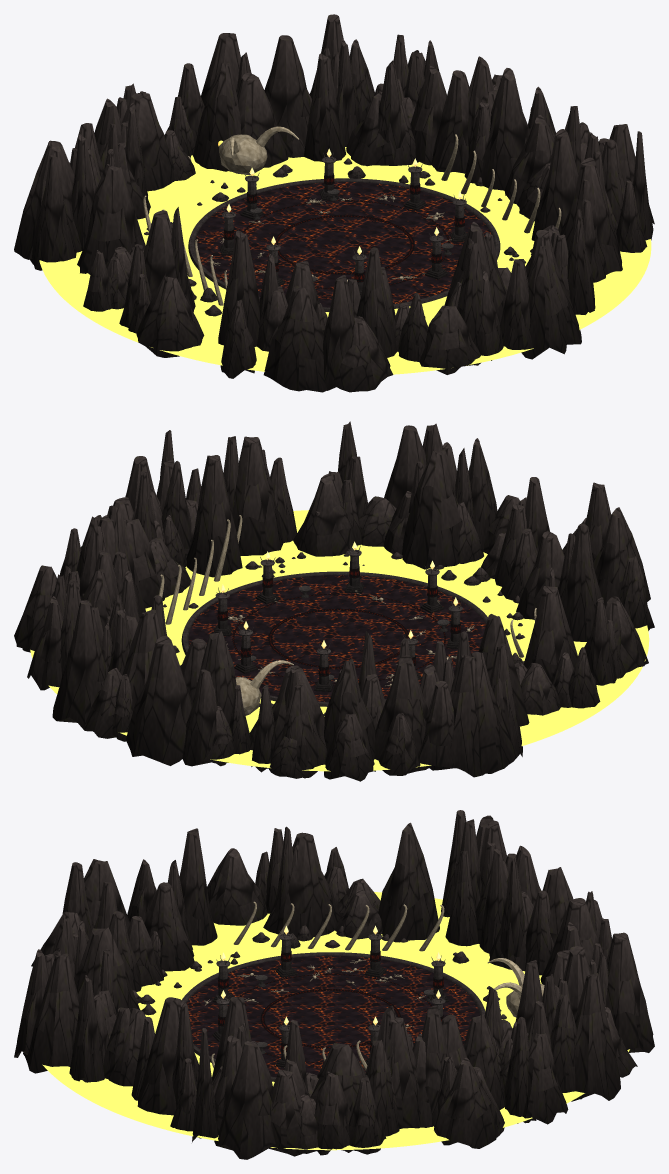
File: sanctum.glb
3 renders of one model, top to bottom at view 1: azimuth 30°, elevation 25°; view 2: azimuth 150°, elevation 25°; view 3: azimuth 270°, elevation 25°, orthographic.
Visible parts, largest first — view 1: floor, lava, cliff.090, cliff.129, cliff.041, cliff.079, cliff.022, cliff.038, cliff.016, cliff.014, cliff.062, cliff.028 (+58 smaller); view 2: floor, lava, cliff.128, cliff.046, cliff.028, cliff.098, cliff.138, cliff.099, cliff.083, cliff.008, cliff.109, cliff.011 (+65 smaller); view 3: floor, lava, cliff.116, cliff.129, cliff.098, cliff.002, cliff.139, cliff.137, cliff.128, cliff.028, cliff.079, cliff.109 (+62 smaller).
Part boxes in pixels (left/top/right/bottom): floor: left=195, top=182, right=491, bottom=307; lava: left=39, top=147, right=651, bottom=374; cliff.090: left=263, top=285, right=327, bottom=392; cliff.129: left=77, top=164, right=145, bottom=274; cliff.041: left=480, top=68, right=529, bottom=190; cliff.079: left=136, top=276, right=204, bottom=357; cliff.022: left=264, top=35, right=311, bottom=147; cliff.038: left=521, top=245, right=569, bottom=359; cliff.016: left=193, top=61, right=240, bottom=171; cliff.014: left=304, top=53, right=345, bottom=161; cliff.062: left=32, top=155, right=76, bottom=270; cliff.028: left=560, top=157, right=622, bottom=274; floor: left=188, top=575, right=485, bottom=702; lava: left=30, top=510, right=649, bottom=771; cliff.128: left=126, top=636, right=192, bottom=765; cliff.046: left=402, top=449, right=462, bottom=569; cliff.028: left=232, top=436, right=283, bottom=555; cliff.098: left=52, top=600, right=107, bottom=731; cliff.138: left=186, top=455, right=242, bottom=577; cliff.099: left=293, top=474, right=357, bottom=556; cliff.083: left=374, top=655, right=432, bottom=773; cliff.008: left=429, top=655, right=484, bottom=777; cliff.109: left=563, top=523, right=601, bottom=641; cliff.011: left=469, top=652, right=517, bottom=773; floor: left=186, top=955, right=479, bottom=1077; lava: left=42, top=892, right=629, bottom=1150; cliff.116: left=214, top=1041, right=275, bottom=1159; cliff.129: left=378, top=822, right=439, bottom=942; cliff.098: left=571, top=973, right=620, bottom=1101; cliff.002: left=23, top=953, right=79, bottom=1073; cliff.139: left=263, top=832, right=340, bottom=937; cliff.137: left=434, top=1057, right=499, bottom=1148; cliff.128: left=605, top=932, right=654, bottom=1052; cliff.028: left=137, top=997, right=199, bottom=1115; cliff.079: left=207, top=848, right=267, bottom=925; cliff.109: left=179, top=828, right=217, bottom=945.
Bounding box in the file's own units: 124 × 26.86 × 129.
9 materials, 7 textured.
